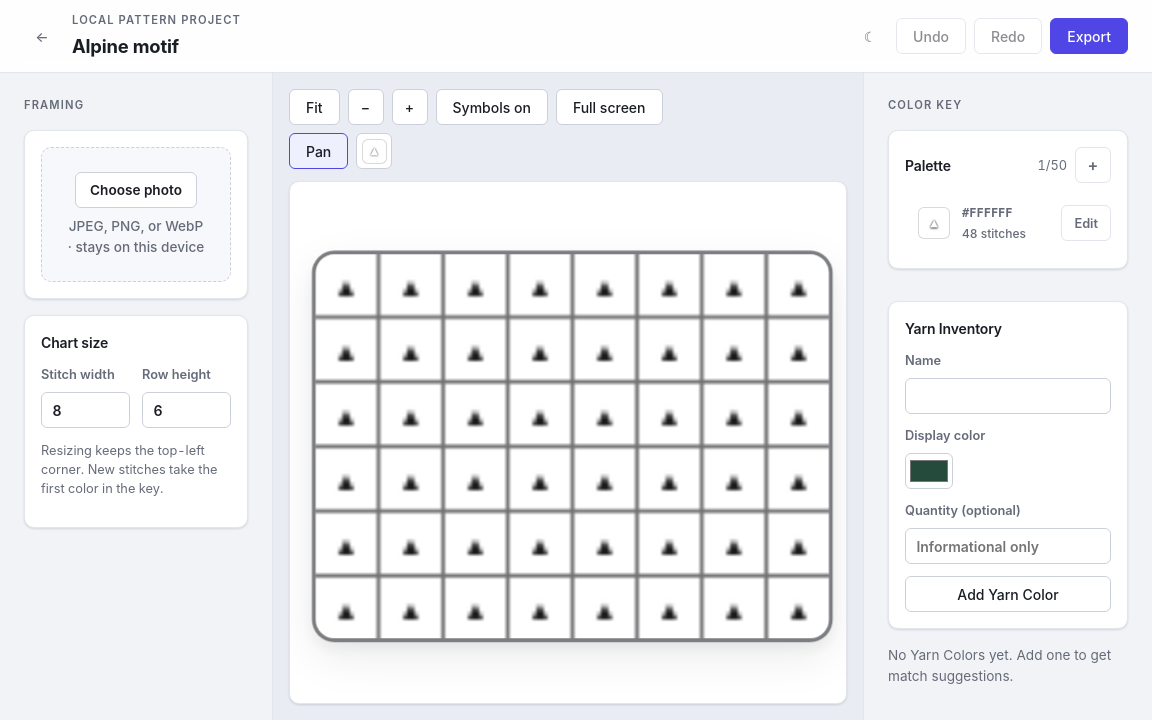
Test: Studio with a blank-canvas project › resizes the grid, keeps counts honest, and undoes as one step
Replace the text in the number field labelled "Stitch width" with "12" at (86, 410), box [41, 392, 130, 428]
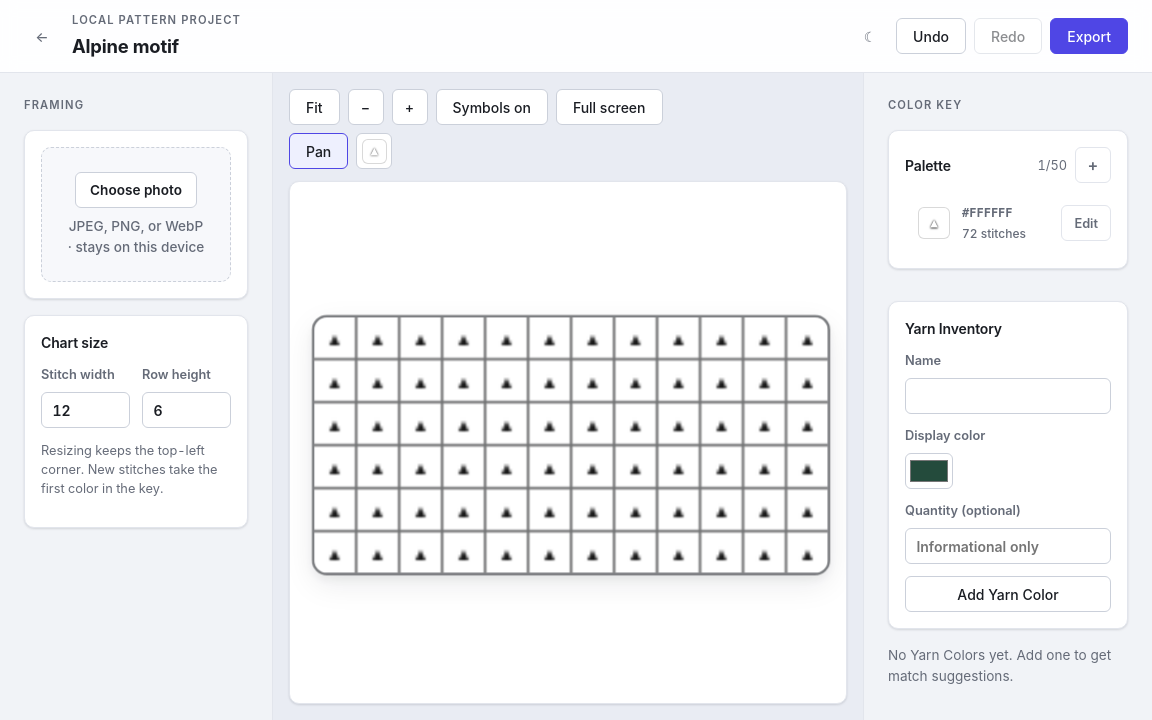
Click the button "Undo" at (931, 36), box [896, 18, 966, 54]
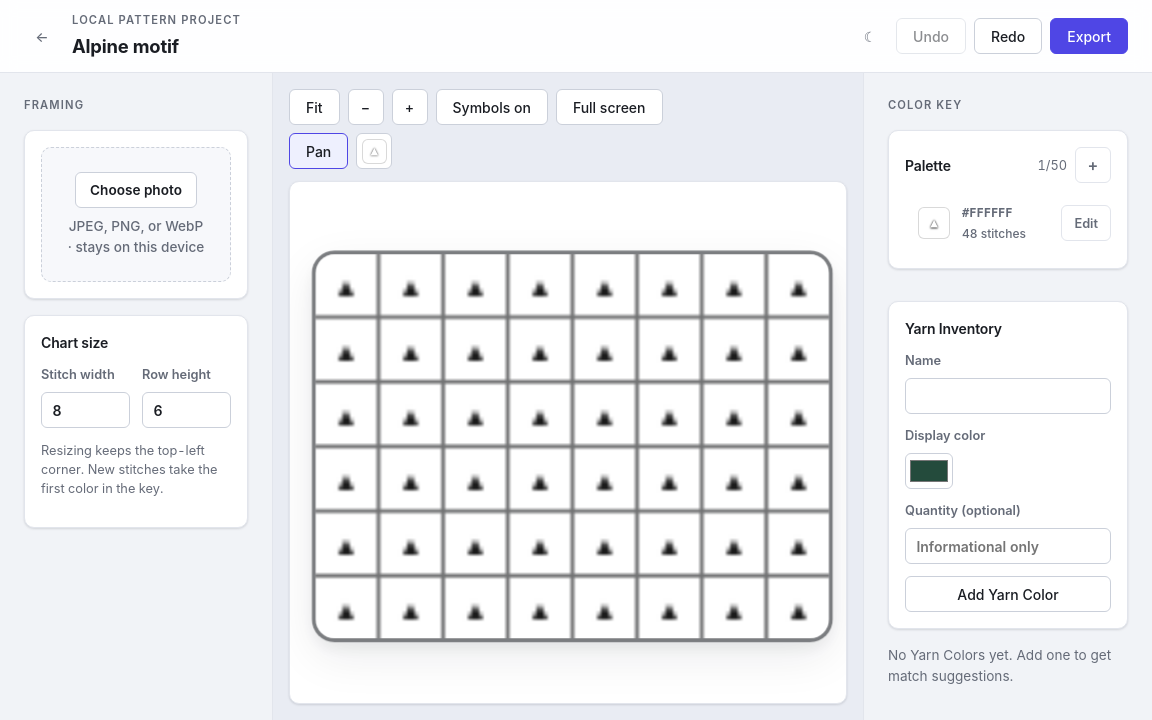
Now the number field labelled "Stitch width" holds "8", box [41, 392, 130, 428]
